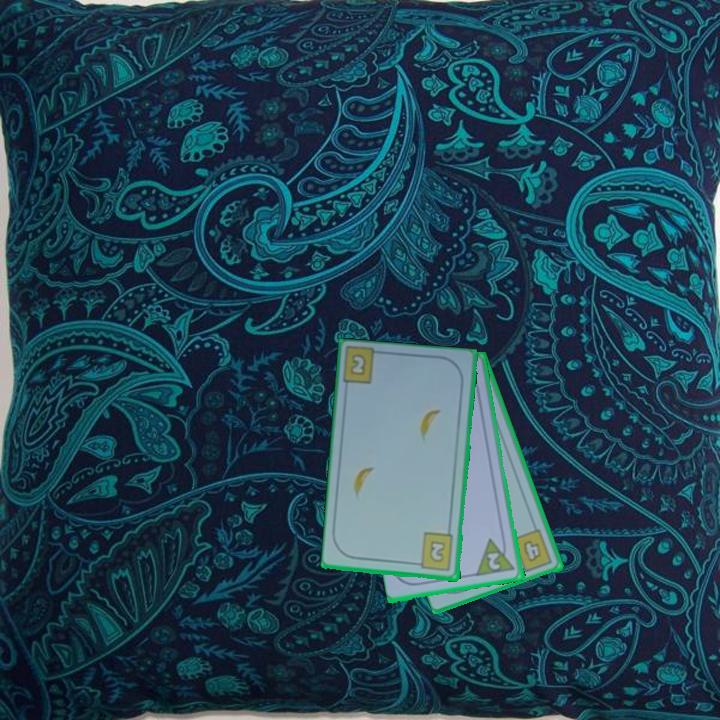2b: (412, 530, 456, 574), (349, 353, 367, 376)
2p: (484, 549, 503, 573)
4b: (510, 526, 555, 576)
